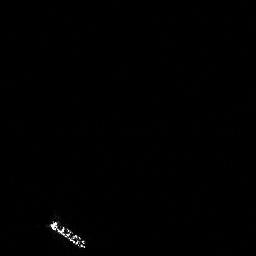ship: (47, 216, 88, 250)
